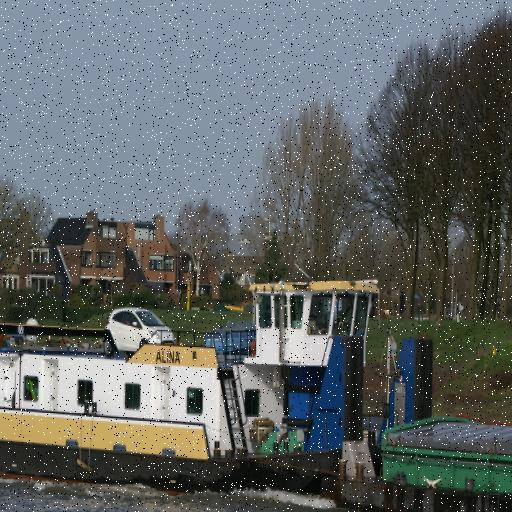tugboat: (1, 262, 440, 512)
